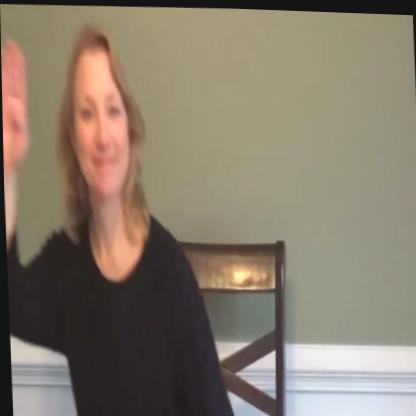Hello: (0, 14, 168, 331)
